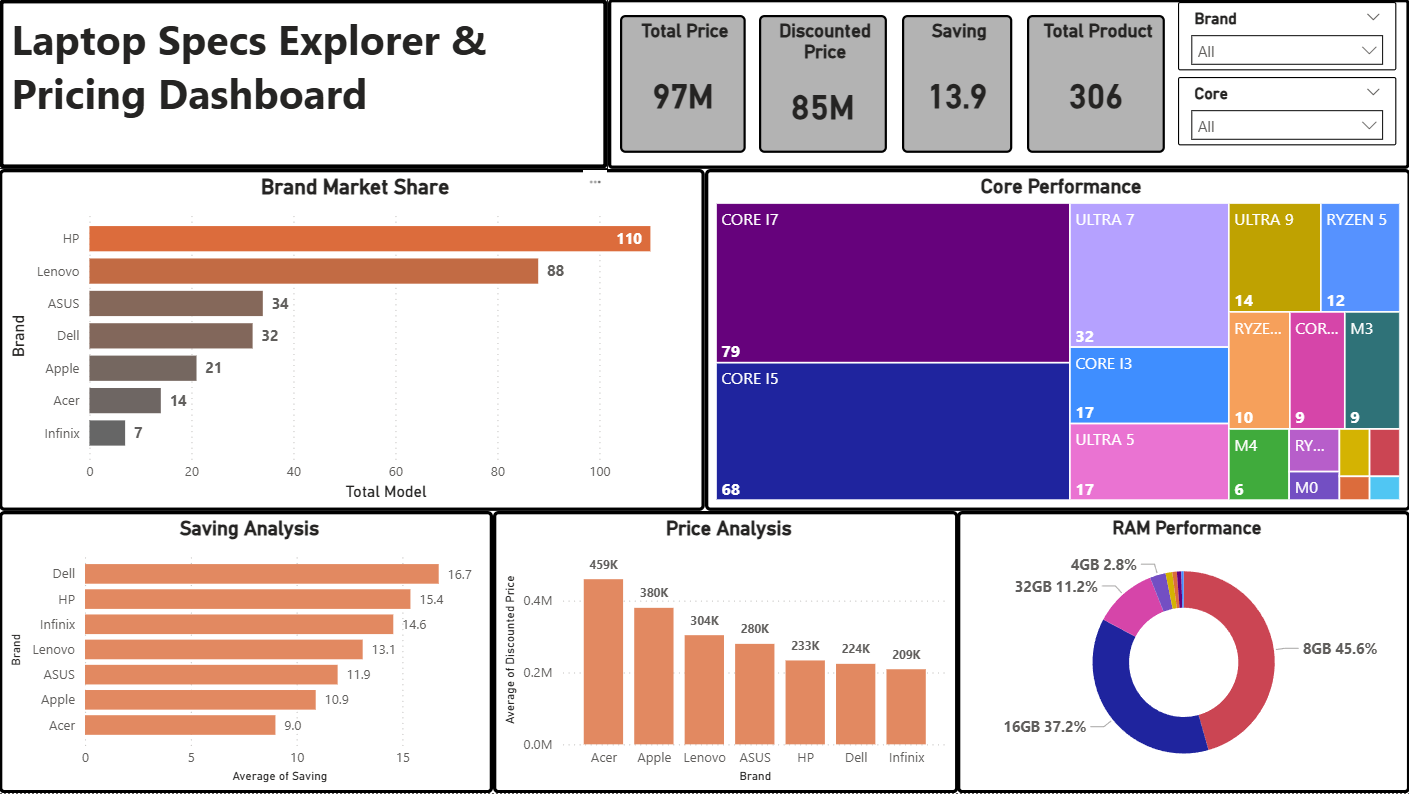

Layout of this report page (visuals, bound fields, positions):
{"tool":"powerbi","page":{"name":"Page 1","canvas":[1280,720],"ordinal":0},"visuals":[{"type":"card","title":"Discounted Price","fields":{"Values":["Sum(priceoye_laptops_ready_to_analyze.Discounted Price)"]},"box":[689.5,14.9,115.9,125.2],"z":0},{"type":"barChart","title":"Saving Analysis","fields":{"Category":["priceoye_laptops_ready_to_analyze.Brand"],"Y":["Avg(priceoye_laptops_ready_to_analyze.Saving)"]},"box":[0,464.3,448.3,255.6],"z":1000},{"type":"donutChart","title":"RAM Performance","fields":{"Category":["priceoye_laptops_ready_to_analyze.RAM"],"Y":["CountNonNull(priceoye_laptops_ready_to_analyze.Model)"]},"box":[869,464.3,411,255.6],"z":2000},{"type":"card","title":"Total Price","fields":{"Values":["Sum(priceoye_laptops_ready_to_analyze.Actual Price)"]},"box":[563.4,14.9,114,125.2],"z":3000},{"type":"card","title":"Saving","fields":{"Values":["Avg(priceoye_laptops_ready_to_analyze.Saving)"]},"box":[818.5,14.9,100,125.2],"z":4000},{"type":"card","title":"Total Product","fields":{"Values":["CountNonNull(priceoye_laptops_ready_to_analyze.Name)"]},"box":[932.4,14.9,125.2,125.2],"z":5000},{"type":"clusteredBarChart","title":"Brand Market Share","fields":{"Category":["priceoye_laptops_ready_to_analyze.Brand"],"Y":["CountNonNull(priceoye_laptops_ready_to_analyze.Model)"]},"box":[0,154.2,640,310.2],"z":6000},{"type":"clusteredColumnChart","title":"Price Analysis","fields":{"Category":["priceoye_laptops_ready_to_analyze.Brand"],"Y":["Avg(priceoye_laptops_ready_to_analyze.Discounted Price)"]},"box":[448.3,464.3,421.7,255.6],"z":7000},{"type":"treemap","title":"Core Performance","fields":{"Group":["priceoye_laptops_ready_to_analyze.Core"],"Values":["CountNonNull(priceoye_laptops_ready_to_analyze.Model)"]},"box":[640,154.2,640,310.2],"z":8000},{"type":"textbox","box":[0,0,552.2,154.2],"z":9000},{"type":"slicer","fields":{"Values":["priceoye_laptops_ready_to_analyze.Brand"]},"box":[1068.8,2.8,198.1,61.7],"z":10000},{"type":"slicer","fields":{"Values":["priceoye_laptops_ready_to_analyze.Core"]},"box":[1068.8,71,198.1,61.7],"z":10001}]}

Visuals, with their boxes in screenshot pixels (x1, y1, x2, y2), scaled from the page's 1280x720 canvas onto the 1409x794 screenshot:
"Discounted Price" card: [x1=759, y1=16, x2=887, y2=154]
"Saving Analysis" barChart: [x1=0, y1=512, x2=493, y2=793]
"RAM Performance" donutChart: [x1=957, y1=512, x2=1408, y2=793]
"Total Price" card: [x1=620, y1=16, x2=746, y2=154]
"Saving" card: [x1=901, y1=16, x2=1011, y2=154]
"Total Product" card: [x1=1026, y1=16, x2=1164, y2=154]
"Brand Market Share" clusteredBarChart: [x1=0, y1=170, x2=704, y2=512]
"Price Analysis" clusteredColumnChart: [x1=493, y1=512, x2=958, y2=793]
"Core Performance" treemap: [x1=704, y1=170, x2=1408, y2=512]
textbox: [x1=0, y1=0, x2=608, y2=170]
slicer - priceoye_laptops_ready_to_analyze.Brand: [x1=1177, y1=3, x2=1395, y2=71]
slicer - priceoye_laptops_ready_to_analyze.Core: [x1=1177, y1=78, x2=1395, y2=146]
